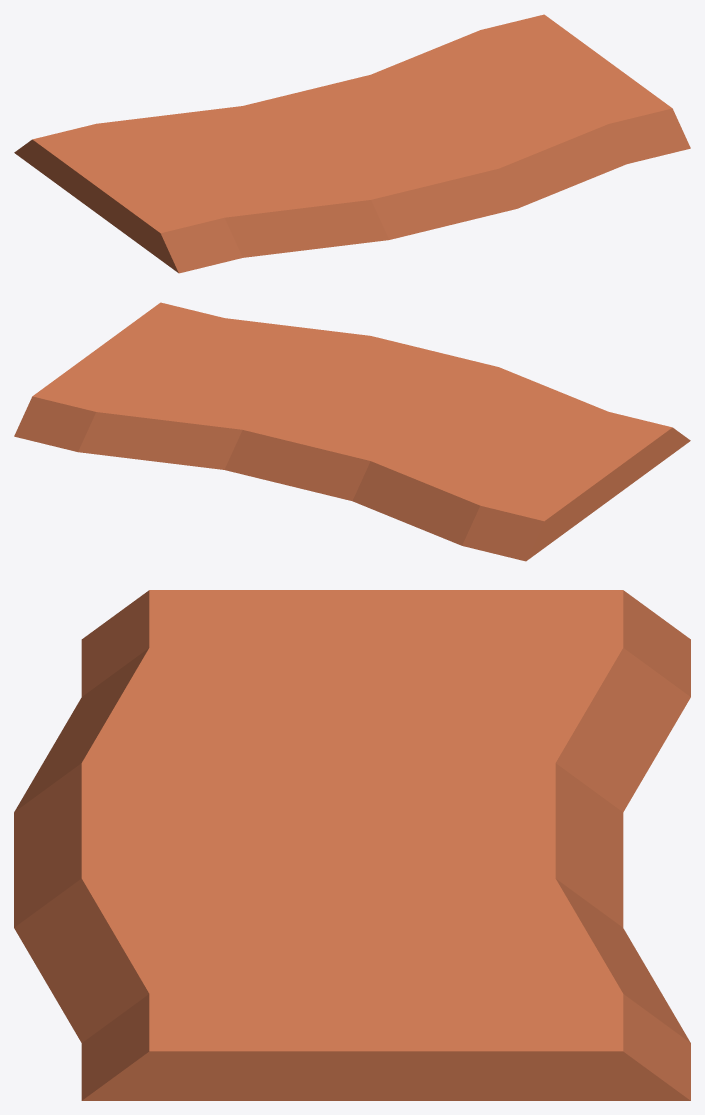
The model's file is crops_dirtRow.glb.
The picture shows the model from 3 angles, top to bottom: view 1: azimuth 30°, elevation 25°; view 2: azimuth 150°, elevation 25°; view 3: azimuth 270°, elevation 25°; orthographic projection. The views are drawn at different scales.
Visible parts, largest first — view 1: crops_dirtRow; view 2: crops_dirtRow; view 3: crops_dirtRow.
Part boxes in pixels (<box>): crops_dirtRow: <box>14,14,690,273</box>; crops_dirtRow: <box>14,302,690,561</box>; crops_dirtRow: <box>14,590,690,1100</box>.
Size of the model in its own units: 1 by 0.05 by 0.62.
